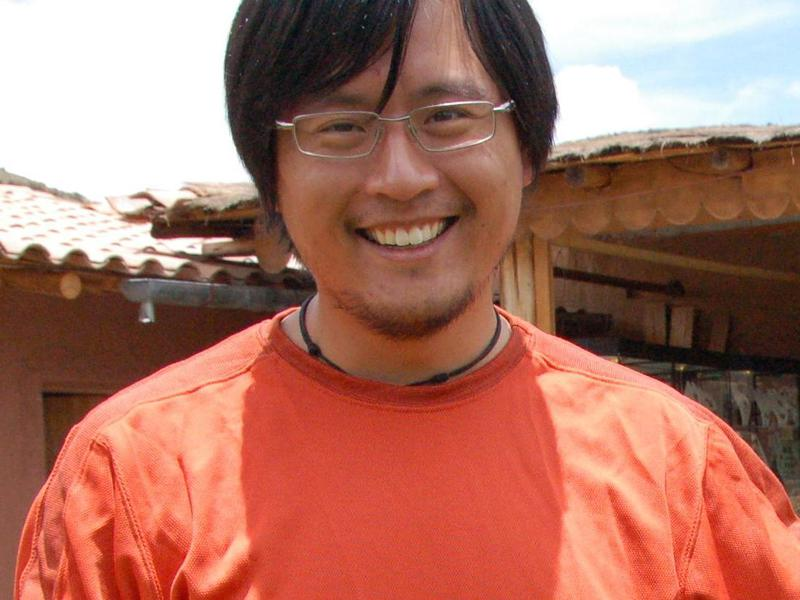person: (14, 1, 793, 600)
